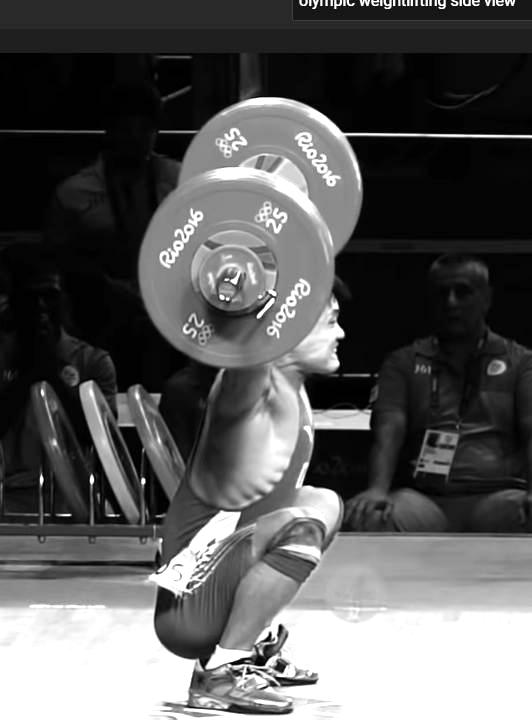Barbell: (211, 275, 245, 309)
